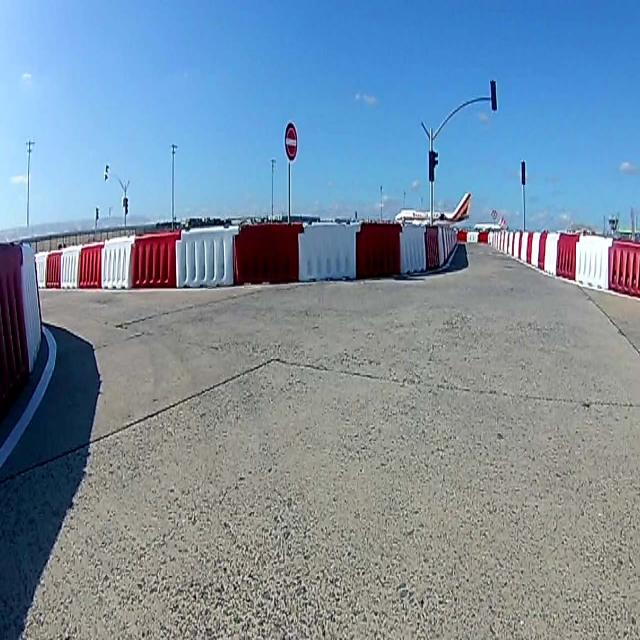girisyok: (283, 121, 298, 159)
